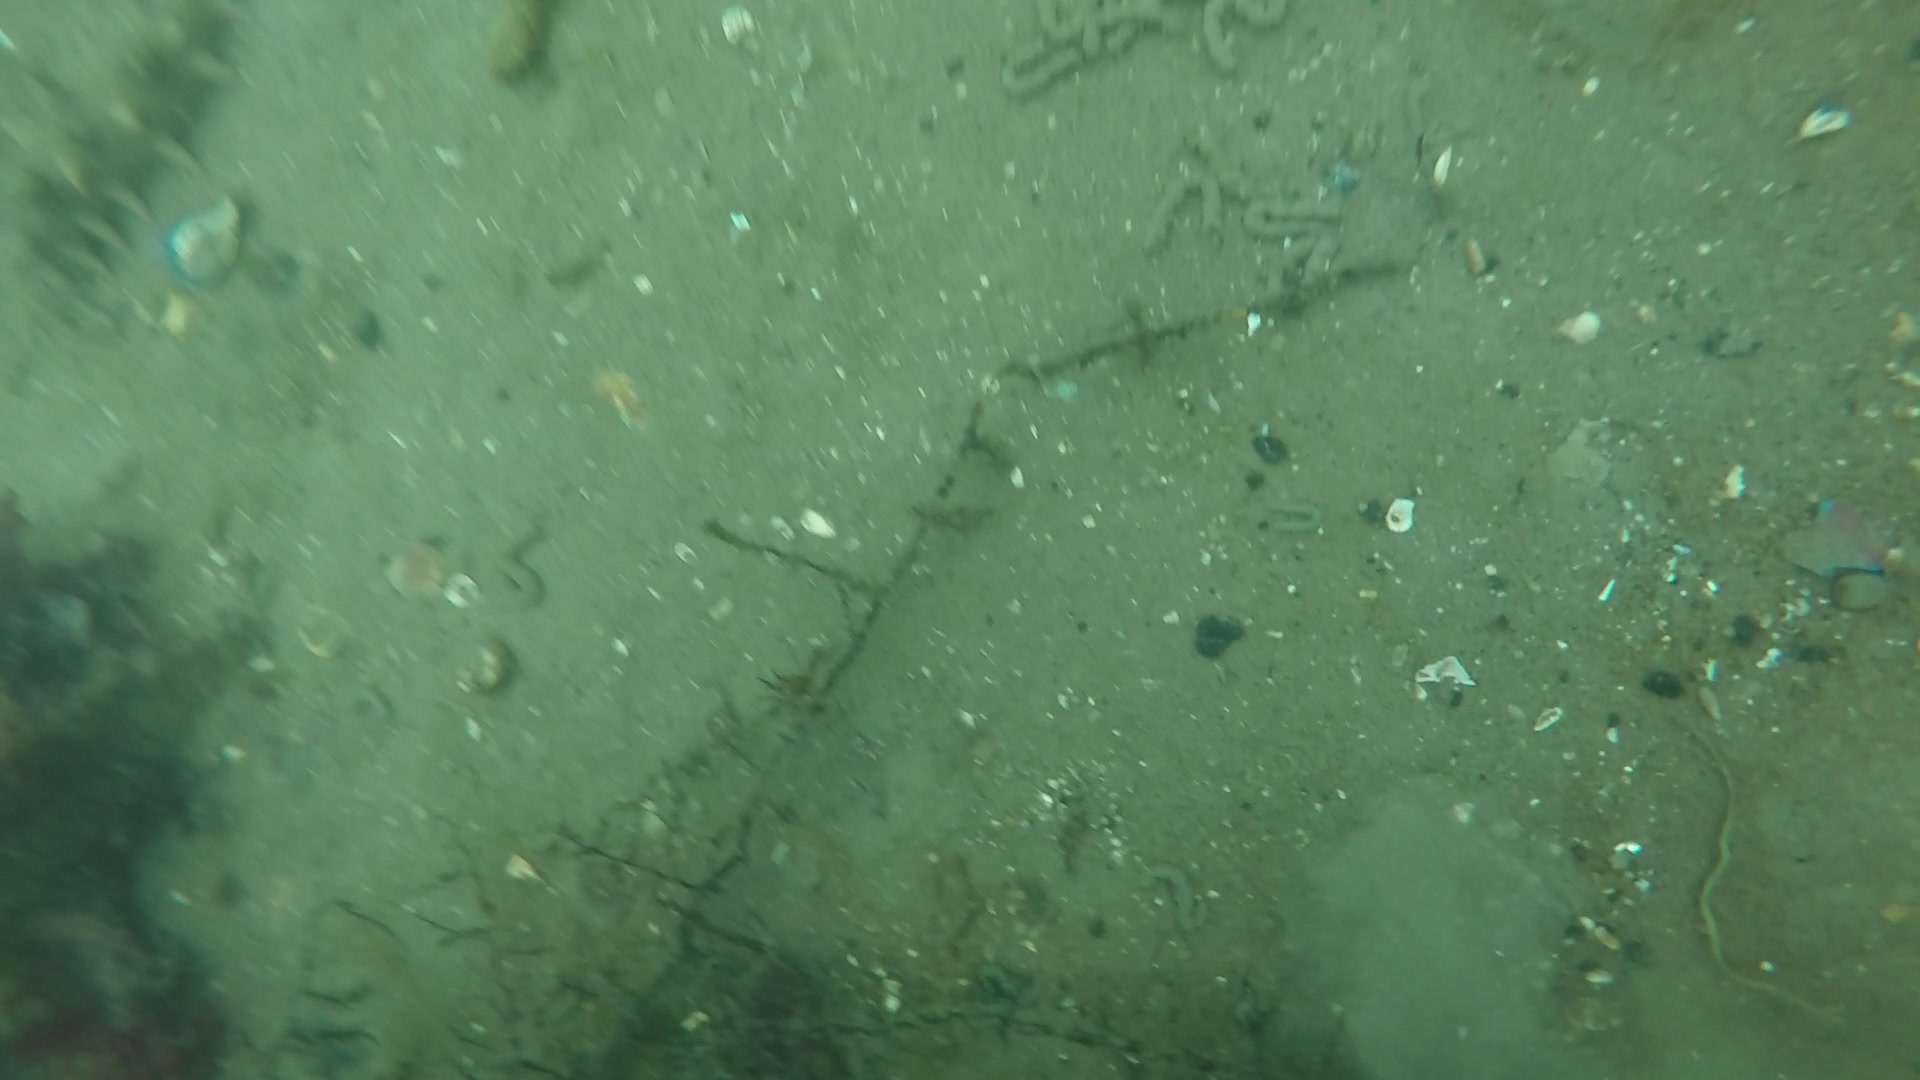holothurian: (11, 1, 233, 332)
